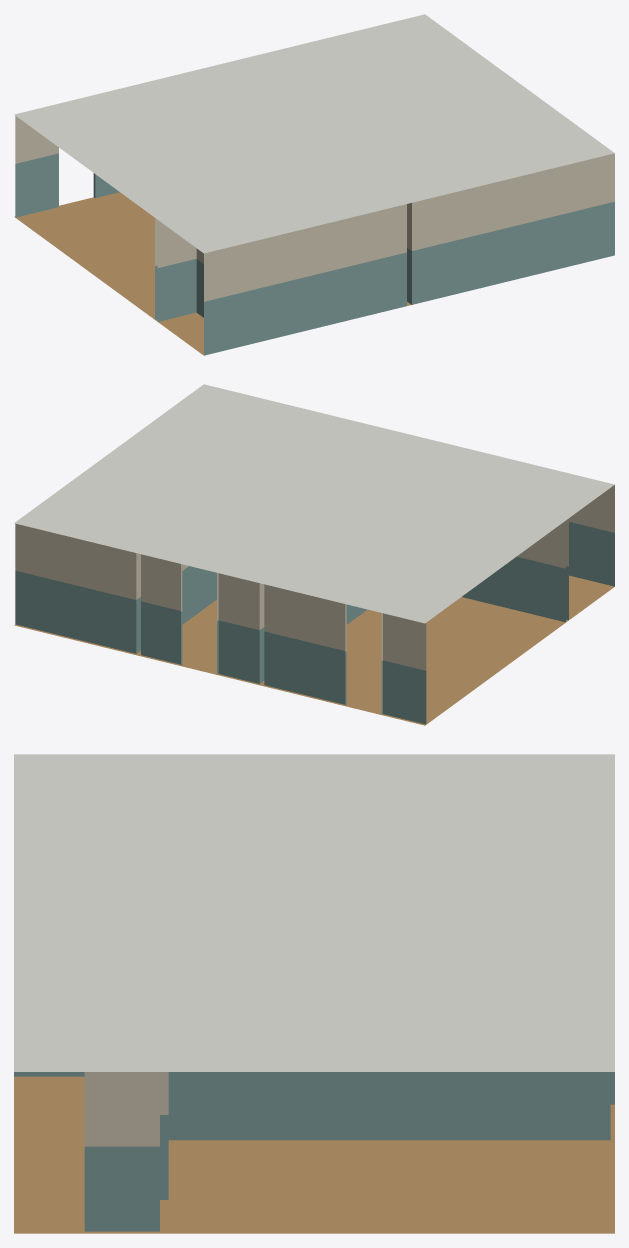
File: chunk_2_4.glb
3 views of the same model, one above another, from view 1: azimuth 30°, elevation 25°; view 2: azimuth 150°, elevation 25°; view 3: azimuth 270°, elevation 25° (orthographic). The views are drawn at different scales.
Parts seen in each view (by area): view 1: chunk_2_4; view 2: chunk_2_4; view 3: chunk_2_4.
Part boxes in pixels (x1,y1,x2,y2): chunk_2_4: [14, 14, 614, 355]; chunk_2_4: [14, 384, 614, 725]; chunk_2_4: [14, 754, 614, 1233].
Bounding box in the file's own units: 12 × 2.85 × 9.6.
